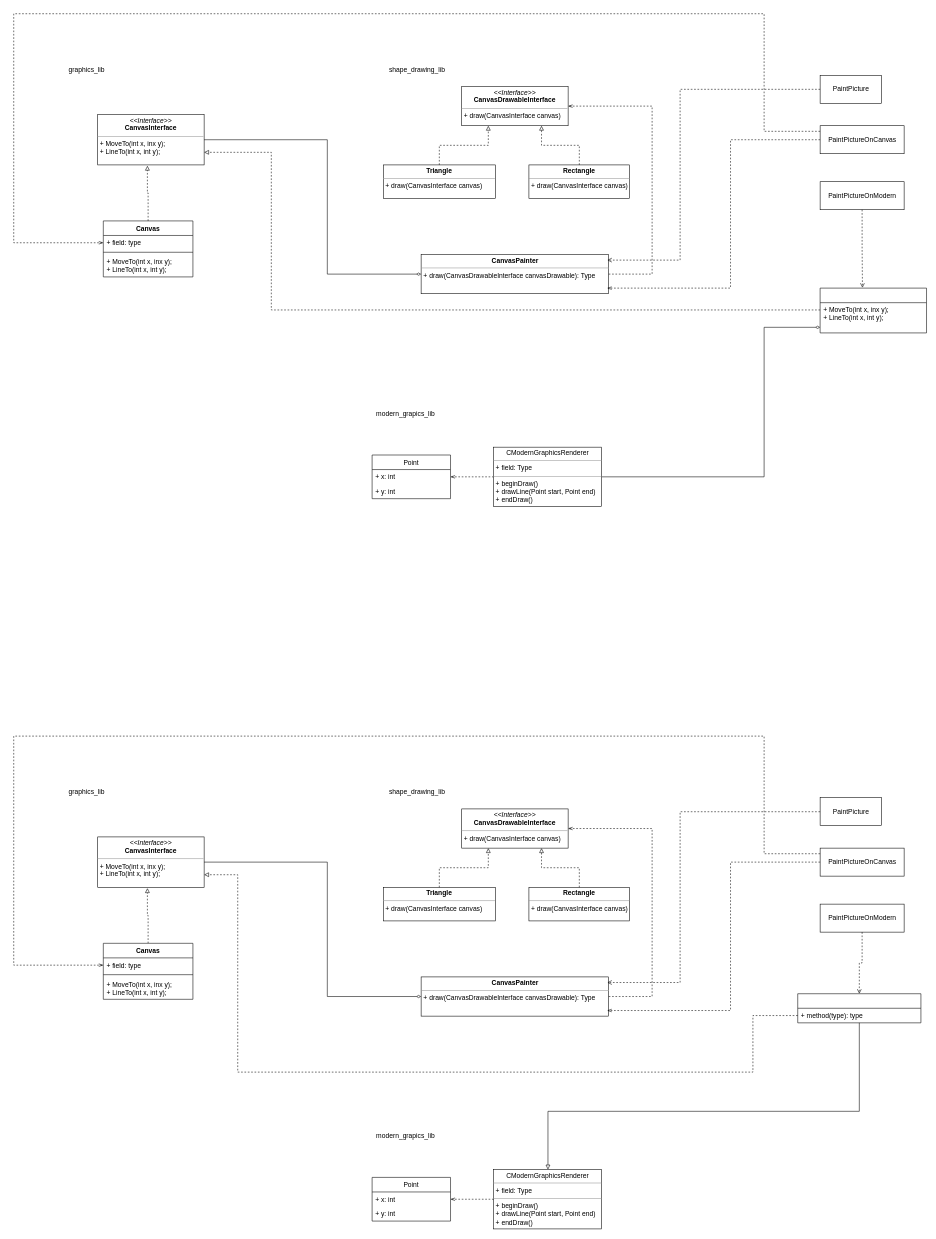
This 936x1239 diagram has some shape labels left out. The box of each missing label's shape, as (x1, y1, x2, y2) in pixels:
PaintPictureOnModernAdapter: (820, 288, 927, 333)
PaintPictureOnModernClassAdapter: (797, 993, 921, 1023)
